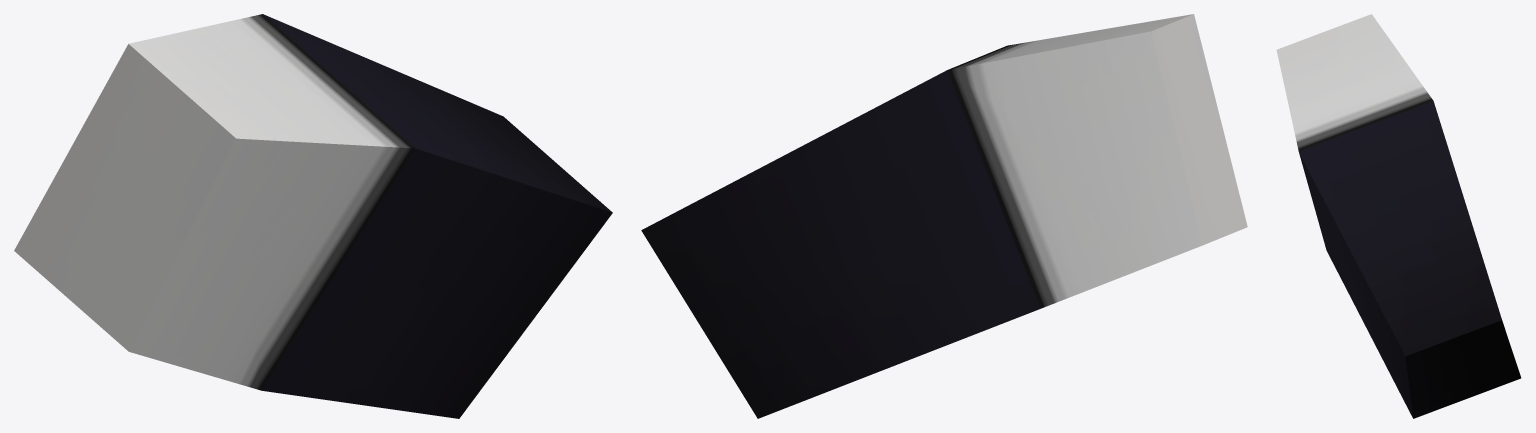
File: palyer_arm.fbx
3 views of the same model, side by side, from view 1: azimuth 30°, elevation 25°; view 2: azimuth 150°, elevation 25°; view 3: azimuth 270°, elevation 25° (orthographic). The views are drawn at different scales.
Visible parts, largest first — view 1: bush; view 2: bush; view 3: bush.
Part boxes in pixels (bbox=[...]): bush: bbox=[14, 14, 612, 418]; bush: bbox=[641, 14, 1247, 418]; bush: bbox=[1276, 14, 1521, 418].
Bounding box in the file's own units: 20.41 × 15.93 × 11.91.
1 material, 1 textured.
